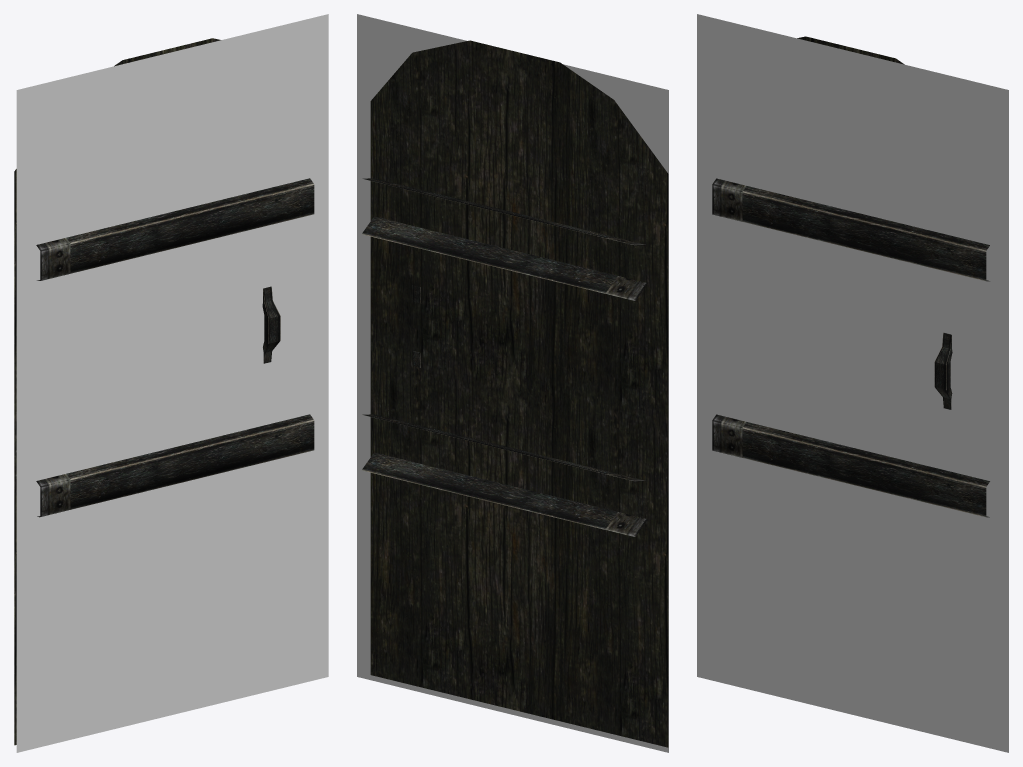
The model's file is d_ex_nord_door_02.dae.
3 views of the same model, side by side, from view 1: azimuth 30°, elevation 25°; view 2: azimuth 150°, elevation 25°; view 3: azimuth 330°, elevation 25° (orthographic).
Visible parts, largest first — view 1: nifid_17-matrix, nifid_6-matrix, nifid_11-matrix, nifid_1-matrix; view 2: nifid_1-matrix, nifid_17-matrix, nifid_6-matrix, nifid_11-matrix; view 3: nifid_17-matrix, nifid_6-matrix, nifid_11-matrix.
Boxes of the visible parts, bbox=[...] form: nifid_17-matrix: bbox=[16, 14, 328, 752]; nifid_6-matrix: bbox=[66, 178, 314, 509]; nifid_11-matrix: bbox=[36, 237, 70, 517]; nifid_1-matrix: bbox=[14, 38, 220, 745]; nifid_1-matrix: bbox=[370, 40, 668, 747]; nifid_17-matrix: bbox=[357, 14, 668, 752]; nifid_6-matrix: bbox=[362, 178, 617, 529]; nifid_11-matrix: bbox=[605, 237, 647, 536]; nifid_17-matrix: bbox=[697, 14, 1008, 752]; nifid_6-matrix: bbox=[742, 186, 989, 517]; nifid_11-matrix: bbox=[712, 178, 746, 457].
Bounding box in the file's own units: 120 × 14.24 × 245.
3 materials, 3 textured.
